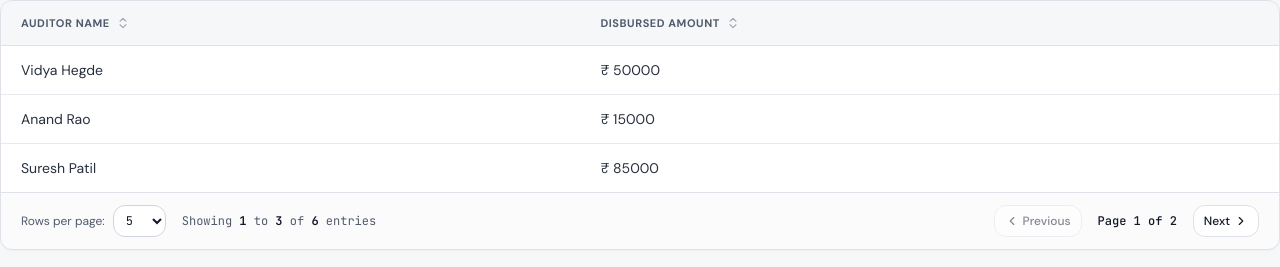
Test: DataTable Component › handles pagination next and previous controls
Check: the text "Vidya Hegde" is shown, box [1,46,580,94]
Check: the text "Ramesh Kumar" is not shown
Click the button with test id "btn-next-page": (1226, 221) [1193,205,1259,237]
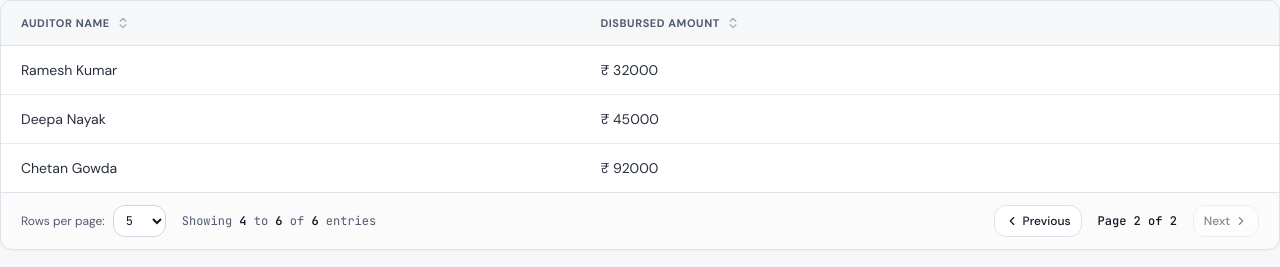
Check: the text "Ramesh Kumar" is shown, box [1,46,580,94]
Click the button with test id "btn-previous-page": (1038, 221) [994,205,1082,237]
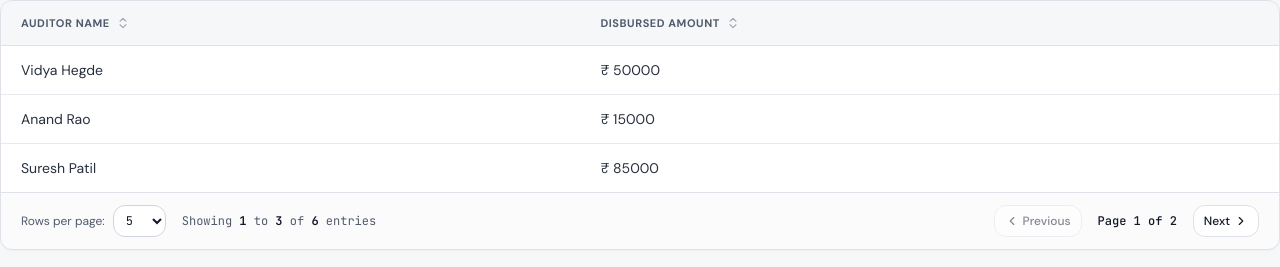
Check: the text "Vidya Hegde" is shown, box [1,46,580,94]
